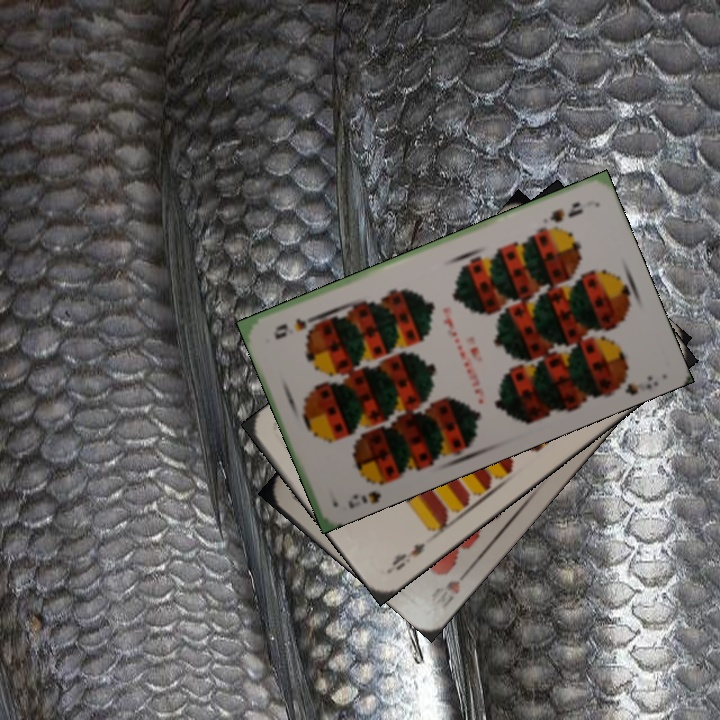E9: (385, 538, 428, 575)
H10: (441, 563, 474, 597)
S9: (343, 474, 392, 512), (545, 198, 586, 225)
